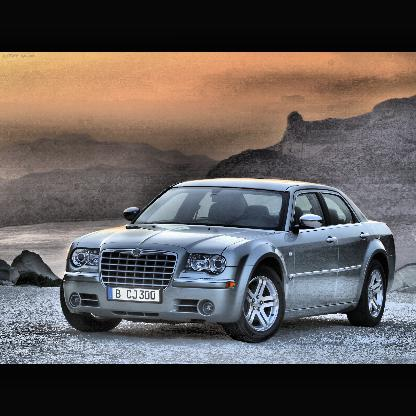Chrysler 300 SRT-8 2010: (60, 178, 399, 345)
